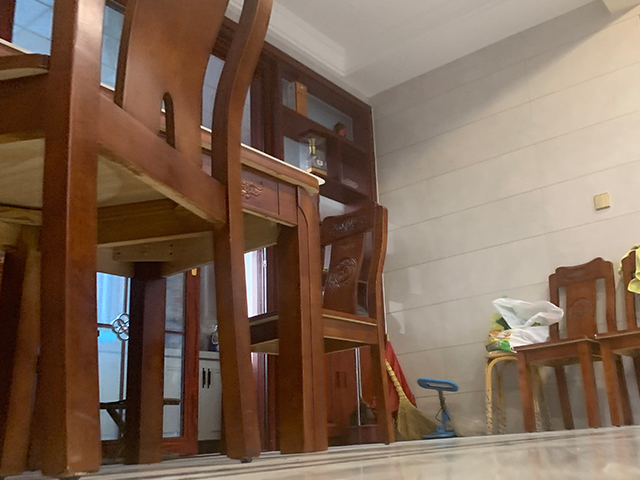stool: (1, 1, 274, 479), (246, 202, 395, 449), (511, 256, 634, 432), (594, 245, 640, 429), (484, 349, 552, 436)
